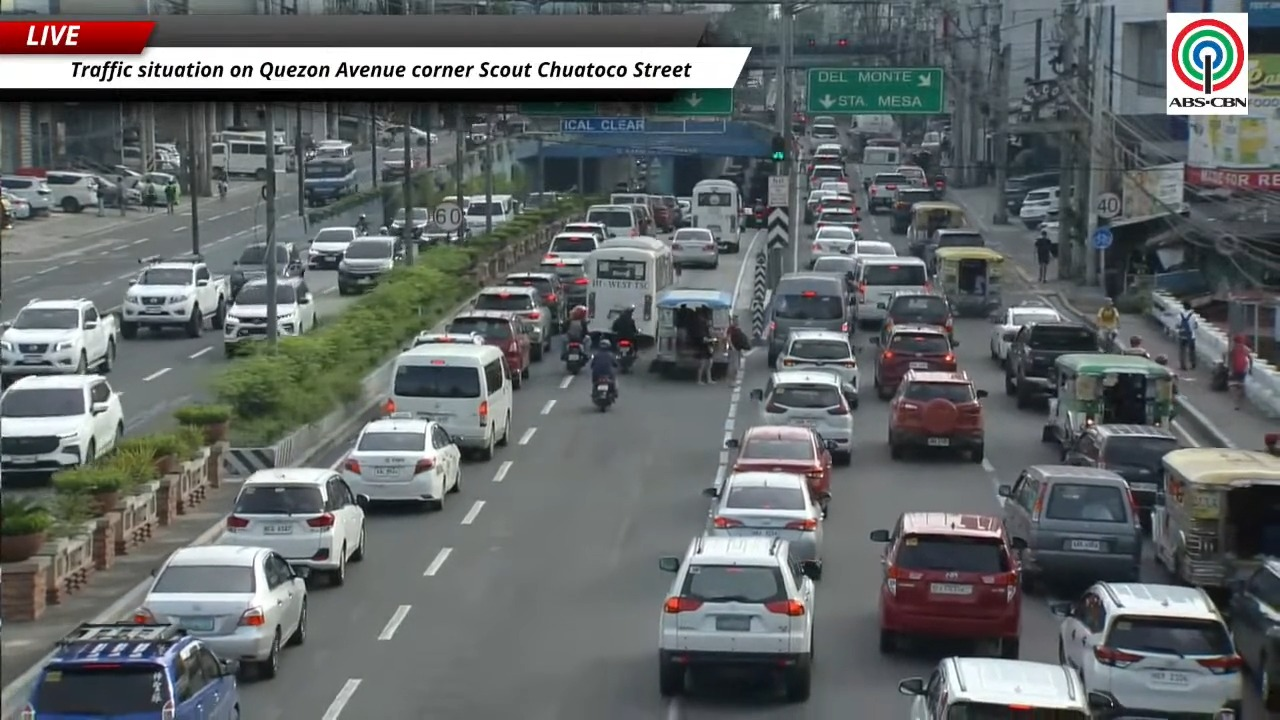bus: (584, 236, 674, 344), (690, 179, 742, 252), (303, 158, 358, 206), (210, 140, 266, 179), (210, 129, 265, 142)
car: (658, 536, 819, 701), (1050, 582, 1243, 717), (133, 545, 309, 678), (870, 512, 1022, 658), (15, 622, 239, 719), (998, 465, 1141, 588), (220, 467, 367, 585), (704, 471, 828, 577), (1064, 424, 1178, 531), (0, 375, 124, 473), (898, 658, 1091, 719), (342, 413, 460, 509), (750, 370, 855, 464), (888, 370, 986, 462), (1004, 321, 1100, 408), (767, 273, 850, 368), (1228, 558, 1279, 712), (726, 425, 833, 497), (445, 310, 532, 388), (779, 329, 859, 408), (872, 324, 956, 399), (472, 285, 552, 361), (853, 255, 931, 326), (990, 301, 1061, 365), (882, 291, 957, 346), (502, 272, 568, 333), (338, 236, 403, 295), (223, 279, 270, 357), (913, 228, 986, 273), (539, 257, 589, 308), (230, 242, 270, 298), (45, 170, 98, 212), (308, 226, 358, 268), (0, 175, 52, 215), (890, 187, 934, 234), (670, 227, 719, 268), (810, 226, 856, 268), (810, 255, 856, 296), (544, 230, 607, 259), (1018, 186, 1059, 228), (867, 173, 907, 214), (95, 174, 141, 208), (136, 171, 180, 204), (388, 207, 431, 239), (813, 207, 859, 233), (411, 330, 485, 346), (805, 189, 835, 223), (819, 193, 859, 218), (560, 221, 609, 241), (809, 163, 847, 187), (0, 191, 31, 219), (851, 240, 896, 257), (813, 225, 857, 242), (895, 165, 926, 187), (820, 181, 850, 194)
motorcycle: (564, 342, 587, 374), (591, 381, 615, 411), (618, 340, 636, 373), (1097, 329, 1120, 353), (933, 179, 946, 200)
truck: (0, 298, 120, 380), (121, 255, 231, 338), (867, 172, 908, 214)
